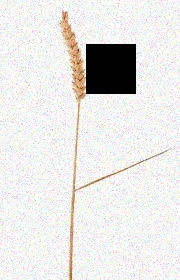wheat: (57, 8, 89, 113)
